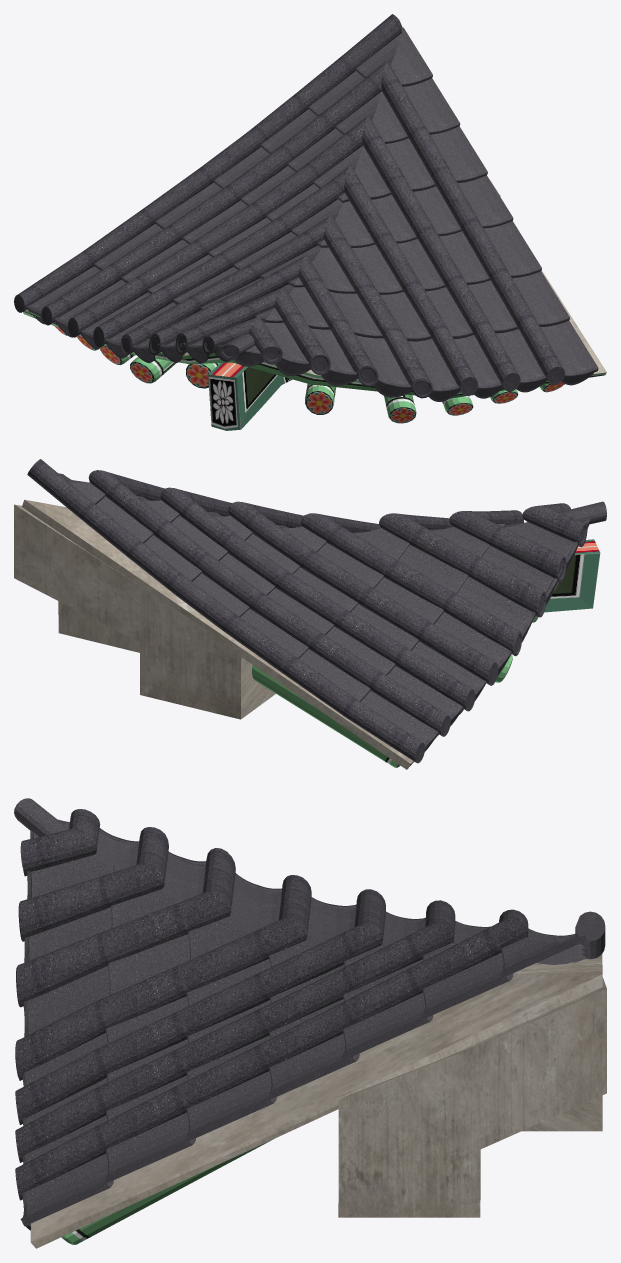
The model's file is SM_R_RoofCorner_9.fbx.
3 views of the same model, one above another, from view 1: azimuth 30°, elevation 25°; view 2: azimuth 150°, elevation 25°; view 3: azimuth 270°, elevation 25° (orthographic). The views are drawn at different scales.
Visible parts, largest first — view 1: SM_R_RoofCorner_9; view 2: SM_R_RoofCorner_9; view 3: SM_R_RoofCorner_9.
Boxes of the visible parts, left/top/right/bottom form: SM_R_RoofCorner_9: left=14, top=14, right=606, bottom=430; SM_R_RoofCorner_9: left=14, top=459, right=606, bottom=769; SM_R_RoofCorner_9: left=14, top=798, right=606, bottom=1248.
Bounding box in the file's own units: 297 × 268 × 173.
4 materials, 4 textured.
